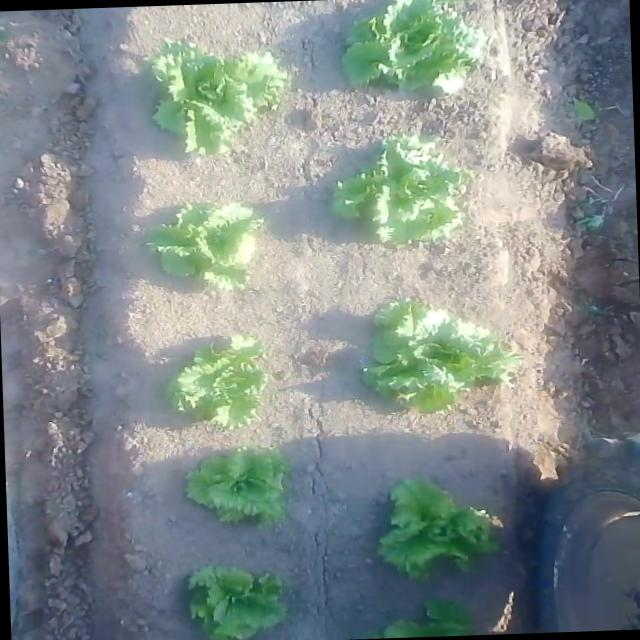Lettuce-Ready-to-Harvest: (345, 3, 488, 94)
